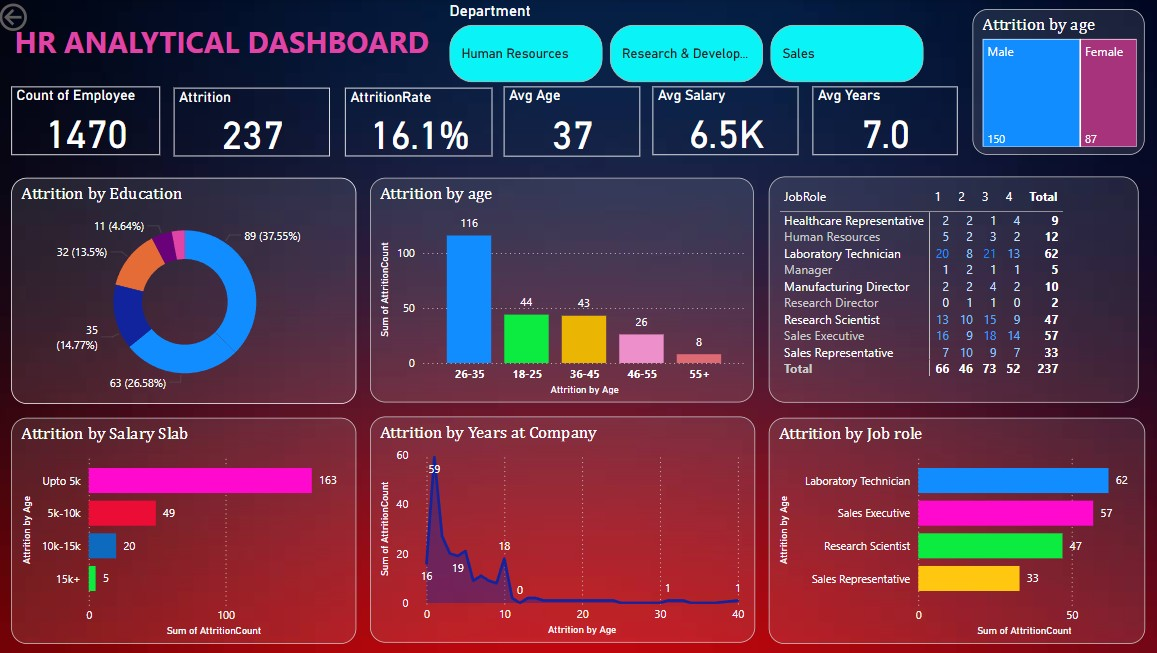

The page's visual inventory and layout, read from the dashboard file:
{"tool":"powerbi","page":{"name":"Page 1","canvas":[1280,720],"ordinal":0},"visuals":[{"type":"card","title":"Count of Employee","fields":{"Values":["CountNonNull(HR_Analytics.EmpID)"]},"box":[17.8,96,163.1,75.4],"z":0},{"type":"card","title":"Attrition","fields":{"Values":["Sum(HR_Analytics.AttritionCount)"]},"box":[196,97.3,171.3,75.4],"z":1000},{"type":"card","title":"AttritionRate","fields":{"Values":["HR_Analytics.AttritionRate"]},"box":[383.8,97.3,161.7,75.4],"z":2000},{"type":"card","title":"Avg Age","fields":{"Values":["Avg(HR_Analytics.Age)"]},"box":[557.9,96,149.4,76.8],"z":3000},{"type":"actionButton","box":[0,0,100,40],"z":4000},{"type":"card","title":"Avg Salary","fields":{"Values":["Avg(HR_Analytics.MonthlyIncome)"]},"box":[721,96,160.4,75.4],"z":5000},{"type":"card","title":"Avg Years","fields":{"Values":["Avg(HR_Analytics.YearsAtCompany)"]},"box":[896.5,96,159,75.4],"z":6000},{"type":"donutChart","title":" Attrition by Education","fields":{"Category":["HR_Analytics.EducationField"],"Y":["Sum(HR_Analytics.AttritionCount)"]},"box":[17.8,196,378.3,248.1],"z":7000},{"type":"clusteredColumnChart","title":" Attrition by age","fields":{"Category":["HR_Analytics.AgeGroup"],"Y":["Sum(HR_Analytics.AttritionCount)"]},"box":[411.2,196,420.8,246.7],"z":8000},{"type":"pivotTable","fields":{"Rows":["HR_Analytics.JobRole"],"Columns":["HR_Analytics.JobSatisfaction"],"Values":["Sum(HR_Analytics.AttritionCount)"]},"box":[848.5,194.6,405.7,248.1],"z":9000},{"type":"barChart","title":" Attrition by Salary Slab","fields":{"Category":["HR_Analytics.SalarySlab"],"Y":["Sum(HR_Analytics.AttritionCount)"]},"box":[17.8,459.2,378.3,248.1],"z":10000},{"type":"barChart","title":" Attrition by Job role","fields":{"Y":["Sum(HR_Analytics.AttritionCount)"],"Category":["HR_Analytics.JobRole"]},"box":[848.5,459.2,412.6,248.1],"z":11000},{"type":"areaChart","title":" Attrition by Years at Company","fields":{"Category":["HR_Analytics.YearsAtCompany"],"Y":["Sum(HR_Analytics.AttritionCount)"]},"box":[411.2,457.8,422.2,248.1],"z":12000},{"type":"treemap","title":" Attrition by age","fields":{"Group":["HR_Analytics.Gender"],"Values":["Sum(HR_Analytics.AttritionCount)"]},"box":[1071.9,11,189.2,160.4],"z":13000},{"type":"advancedSlicerVisual","fields":{"Values":["HR_Analytics.Department"]},"box":[493.4,2.4,532,94.1],"z":14000},{"type":"textbox","box":[16.4,20.6,607.2,98.7],"z":15000}]}

Visuals, with their boxes in screenshot pixels (x1, y1, x2, y2), scaled from the page's 1280x720 canvas onto the 1157x653 screenshot:
"Count of Employee" card: box(16, 87, 164, 155)
"Attrition" card: box(177, 88, 332, 157)
"AttritionRate" card: box(347, 88, 493, 157)
"Avg Age" card: box(504, 87, 639, 157)
actionButton: box(0, 0, 90, 36)
"Avg Salary" card: box(652, 87, 797, 155)
"Avg Years" card: box(810, 87, 954, 155)
" Attrition by Education" donutChart: box(16, 178, 358, 403)
" Attrition by age" clusteredColumnChart: box(372, 178, 752, 402)
pivotTable - HR_Analytics.JobRole x HR_Analytics.JobSatisfaction: box(767, 176, 1134, 402)
" Attrition by Salary Slab" barChart: box(16, 416, 358, 641)
" Attrition by Job role" barChart: box(767, 416, 1140, 641)
" Attrition by Years at Company" areaChart: box(372, 415, 753, 640)
" Attrition by age" treemap: box(969, 10, 1140, 155)
advancedSlicerVisual - HR_Analytics.Department: box(446, 2, 927, 88)
textbox: box(15, 19, 564, 108)
